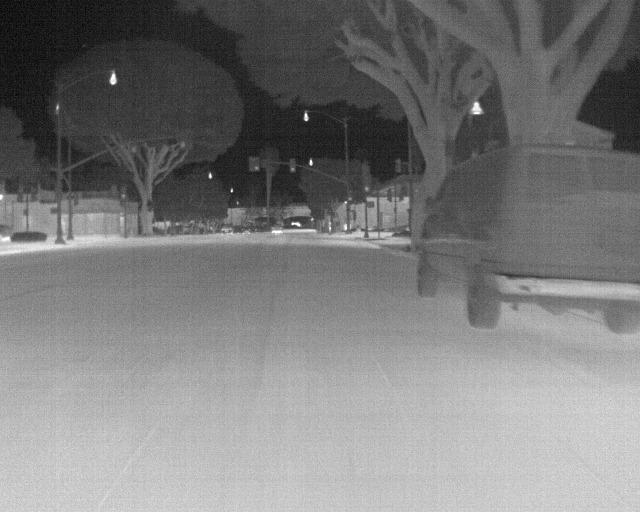car: (416, 144, 639, 334), (0, 224, 13, 242), (168, 225, 184, 235), (233, 225, 250, 234), (221, 224, 233, 234), (272, 224, 282, 233)
light: (249, 158, 259, 172), (179, 132, 187, 149), (130, 136, 138, 153), (364, 173, 371, 192), (121, 188, 128, 202), (290, 158, 296, 172), (17, 189, 24, 201), (347, 188, 353, 201), (31, 187, 37, 200), (73, 192, 79, 205), (386, 189, 392, 201), (398, 188, 403, 202), (395, 160, 400, 173), (367, 201, 374, 208), (51, 208, 57, 214)
sign: (342, 173, 357, 178), (50, 167, 64, 172), (40, 199, 56, 203)
